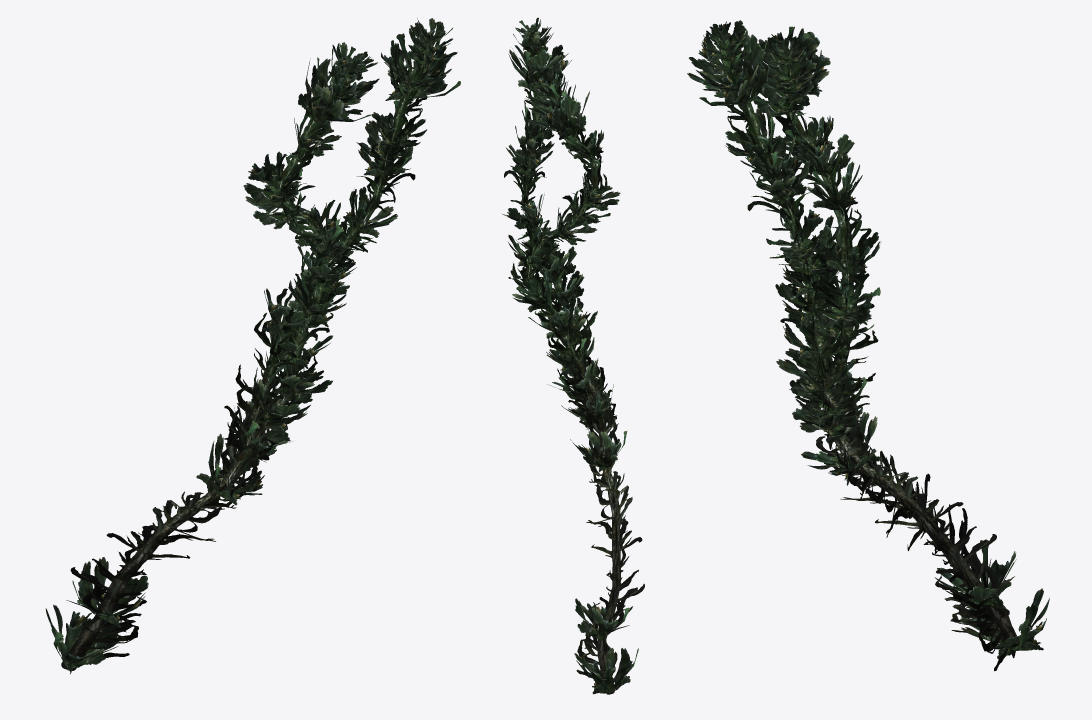
File: PondWeed.004_FBX_still.fbx
The picture shows the model from 3 angles, left to right: view 1: azimuth 30°, elevation 25°; view 2: azimuth 150°, elevation 25°; view 3: azimuth 270°, elevation 25°; orthographic projection. The views are drawn at different scales.
Visible parts, largest first — view 1: PondWeed.004_gameasset; view 2: PondWeed.004_gameasset; view 3: PondWeed.004_gameasset.
Boxes of the visible parts, bbox=[...] form: PondWeed.004_gameasset: bbox=[45, 18, 460, 673]; PondWeed.004_gameasset: bbox=[502, 17, 644, 694]; PondWeed.004_gameasset: bbox=[687, 20, 1049, 671].
Size of the model in its own units: 11.01 by 24.4 by 11.2.
2 materials, 2 textured.
